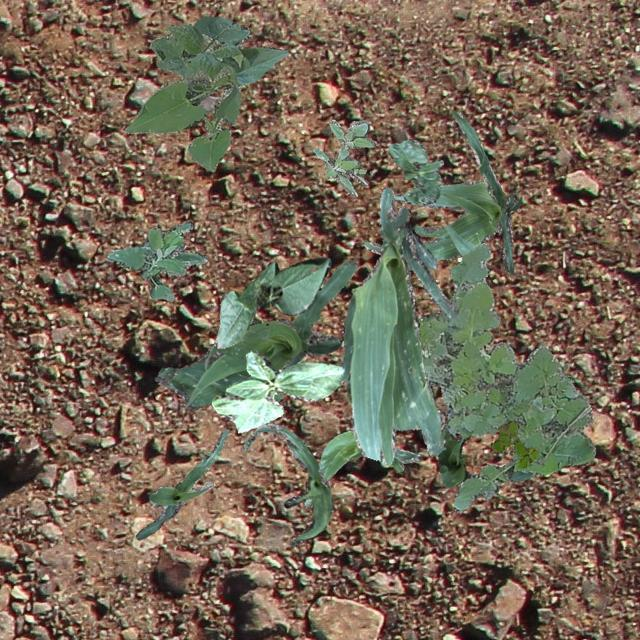crop: (340, 186, 456, 464), (154, 258, 356, 409), (362, 110, 520, 274), (125, 15, 288, 168), (240, 422, 330, 546), (210, 349, 344, 432), (213, 256, 329, 348), (134, 428, 228, 538), (304, 429, 421, 506), (418, 424, 534, 486), (388, 138, 442, 204)
weed: (416, 242, 594, 512), (106, 220, 206, 300), (312, 118, 376, 196), (492, 421, 538, 466)
